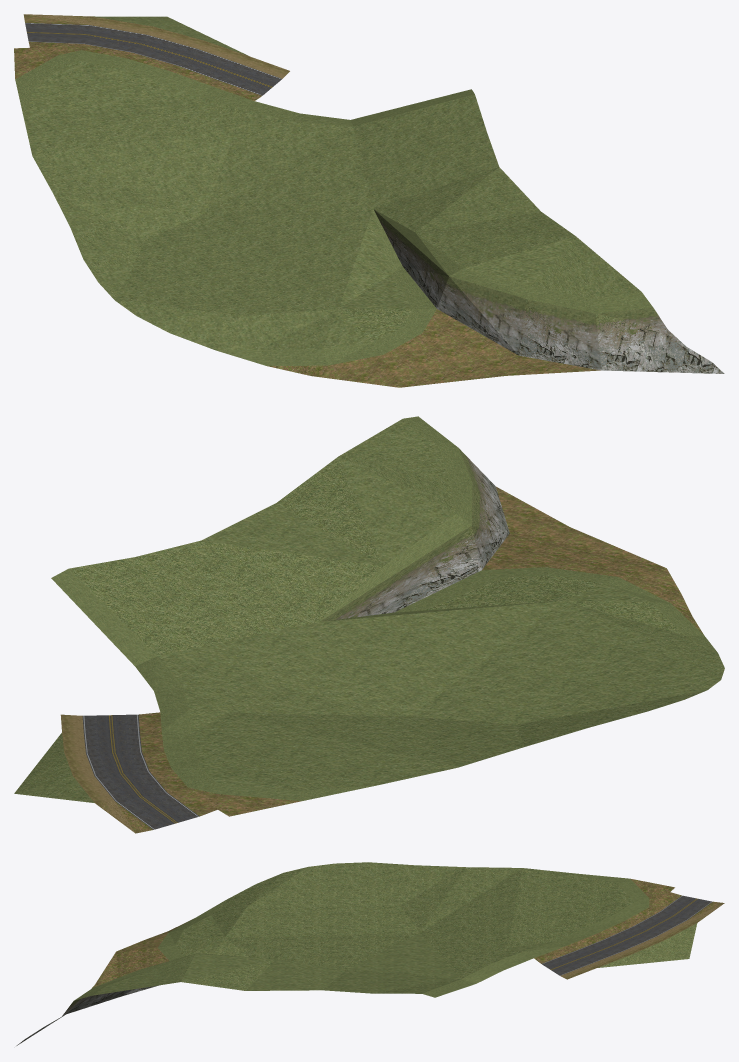
Rendered from s_bit_12.obj.
The picture shows the model from 3 angles, top to bottom: view 1: azimuth 30°, elevation 25°; view 2: azimuth 150°, elevation 25°; view 3: azimuth 270°, elevation 25°; orthographic projection. The views are drawn at different scales.
Visible parts, largest first — view 1: s_bit_12; view 2: s_bit_12; view 3: s_bit_12.
Boxes of the visible parts, x1=… form: s_bit_12: x1=14, y1=14, x2=724, y2=387; s_bit_12: x1=14, y1=416, x2=724, y2=833; s_bit_12: x1=16, y1=862, x2=724, y2=1045.
Bounding box in the file's own units: 136 × 23.51 × 250.
Materials: 7 (7 with a texture image).
